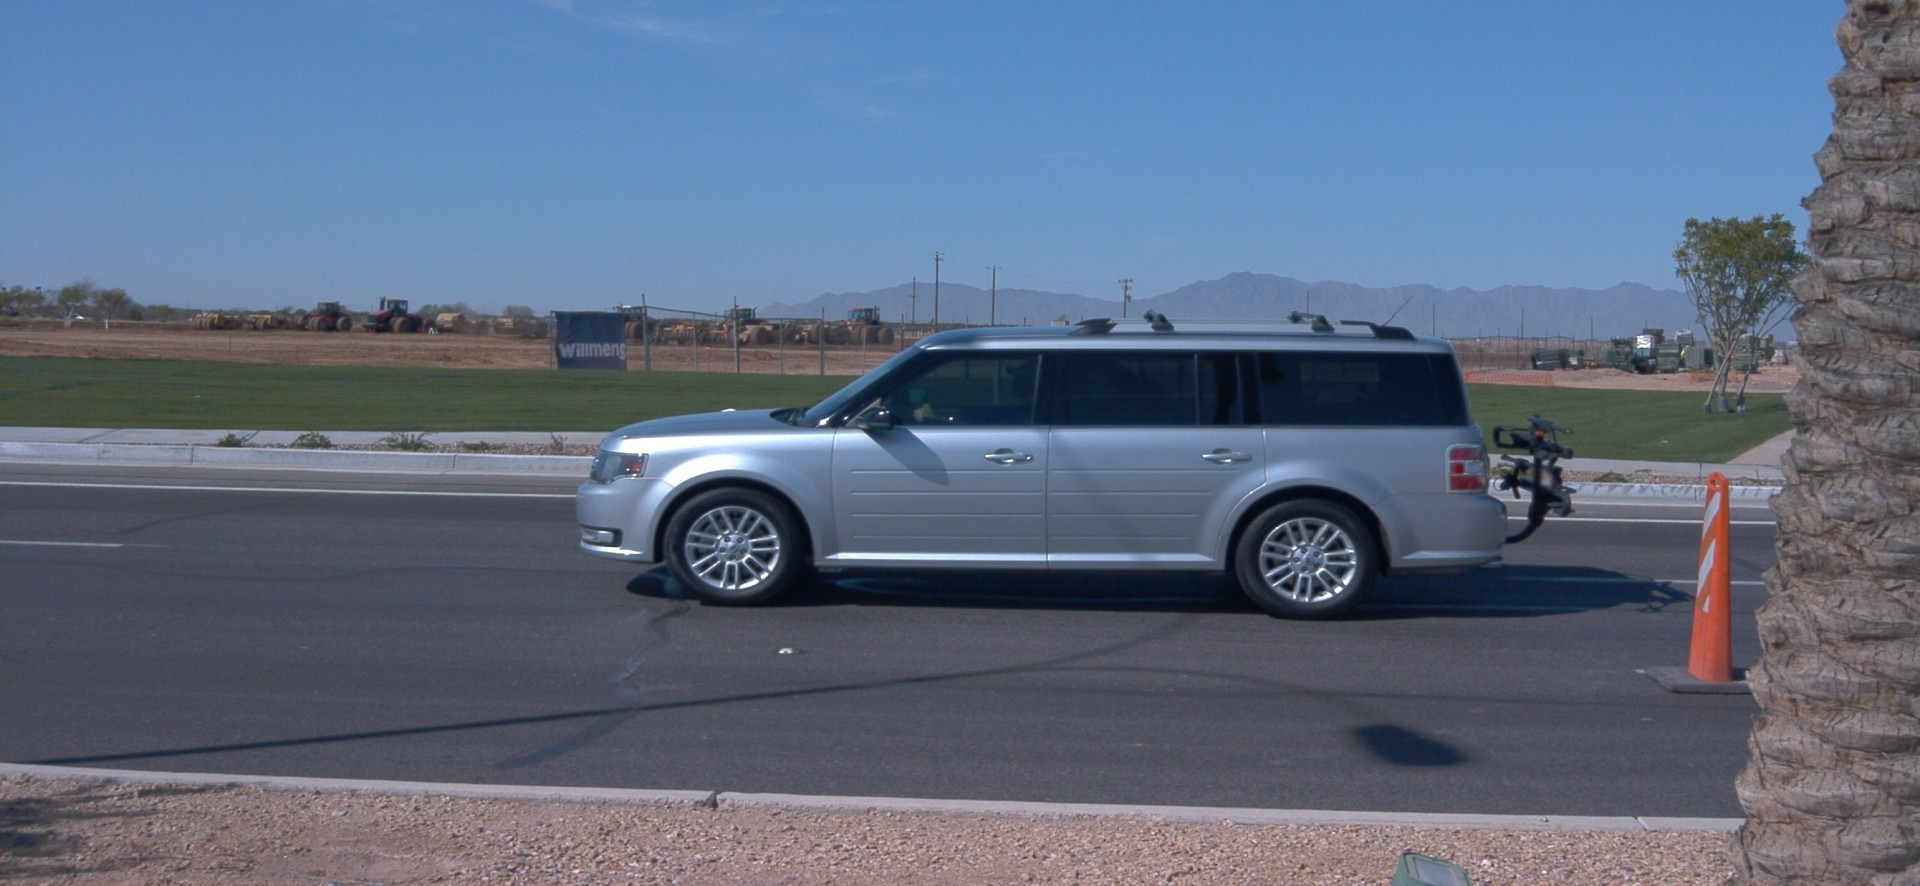TYPE_VEHICLE: (573, 308, 1575, 622), (573, 308, 1575, 622), (573, 308, 1575, 622), (573, 308, 1575, 622), (362, 296, 437, 337), (362, 296, 437, 337), (362, 296, 437, 337), (362, 296, 437, 337), (834, 302, 898, 344), (834, 302, 898, 344), (834, 302, 898, 344), (834, 302, 898, 344), (291, 297, 353, 335), (291, 297, 353, 335), (291, 297, 353, 335), (291, 297, 353, 335), (715, 301, 764, 346), (715, 301, 764, 346), (715, 301, 764, 346), (715, 301, 764, 346), (653, 313, 710, 345), (653, 313, 710, 345), (653, 313, 710, 345), (653, 313, 710, 345), (610, 299, 651, 339), (610, 299, 651, 339), (610, 299, 651, 339), (610, 299, 651, 339), (738, 322, 807, 346), (738, 322, 807, 346), (738, 322, 807, 346), (738, 322, 807, 346), (192, 311, 274, 327), (192, 311, 274, 327), (192, 311, 274, 327), (192, 311, 274, 327), (546, 316, 557, 329), (546, 316, 557, 329), (546, 316, 557, 329), (546, 316, 557, 329)
